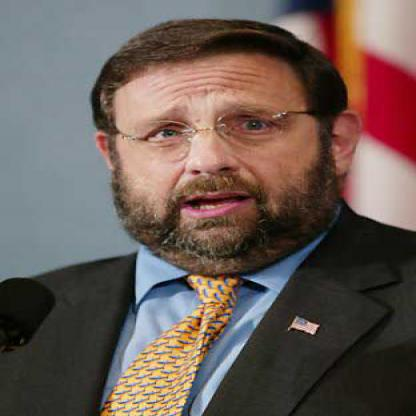face: (102, 25, 336, 267)
